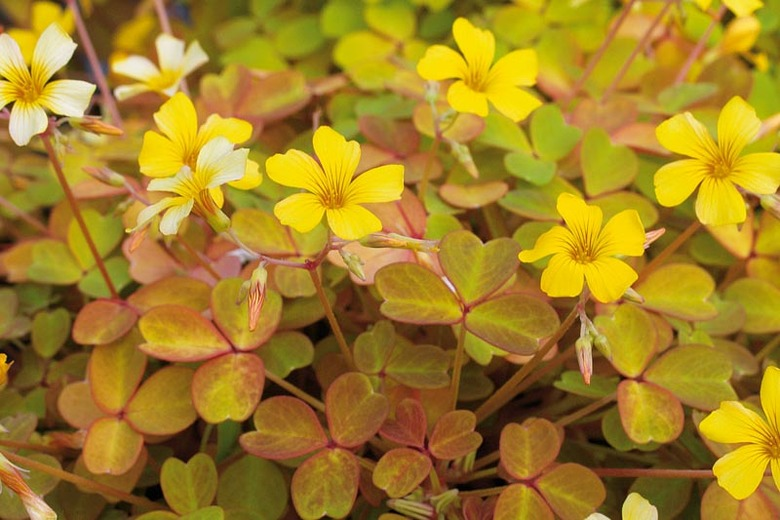oxalis: (22, 115, 780, 508)
